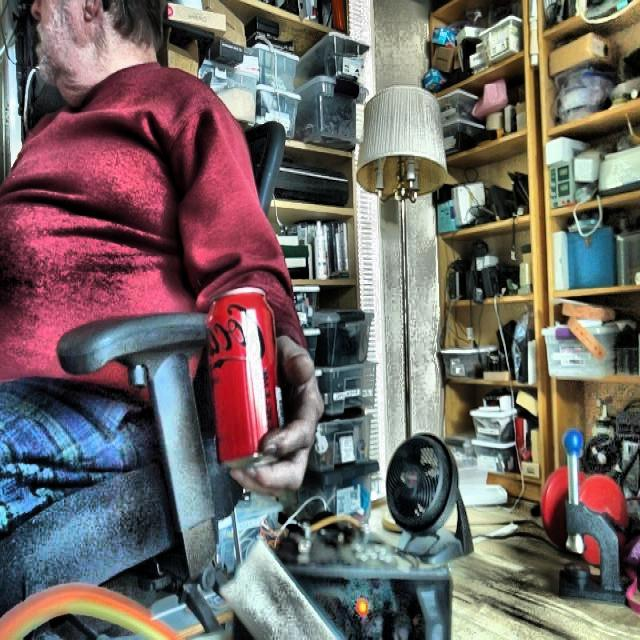CokeZero-can: (204, 286, 282, 469)
